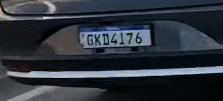Placa_mercosul_carro: (77, 24, 154, 49)
